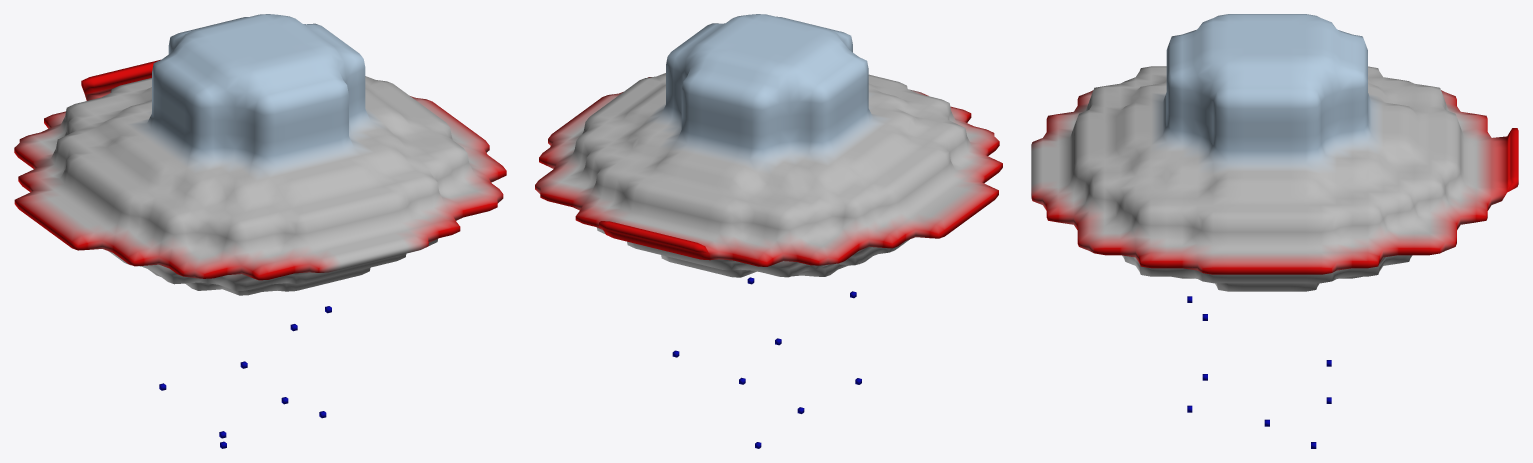
3 renders of one model, left to right at view 1: azimuth 30°, elevation 25°; view 2: azimuth 150°, elevation 25°; view 3: azimuth 270°, elevation 25°, orthographic. The views are drawn at different scales.
Bounding box in the file's own units: 1.58 × 1.48 × 1.58.
